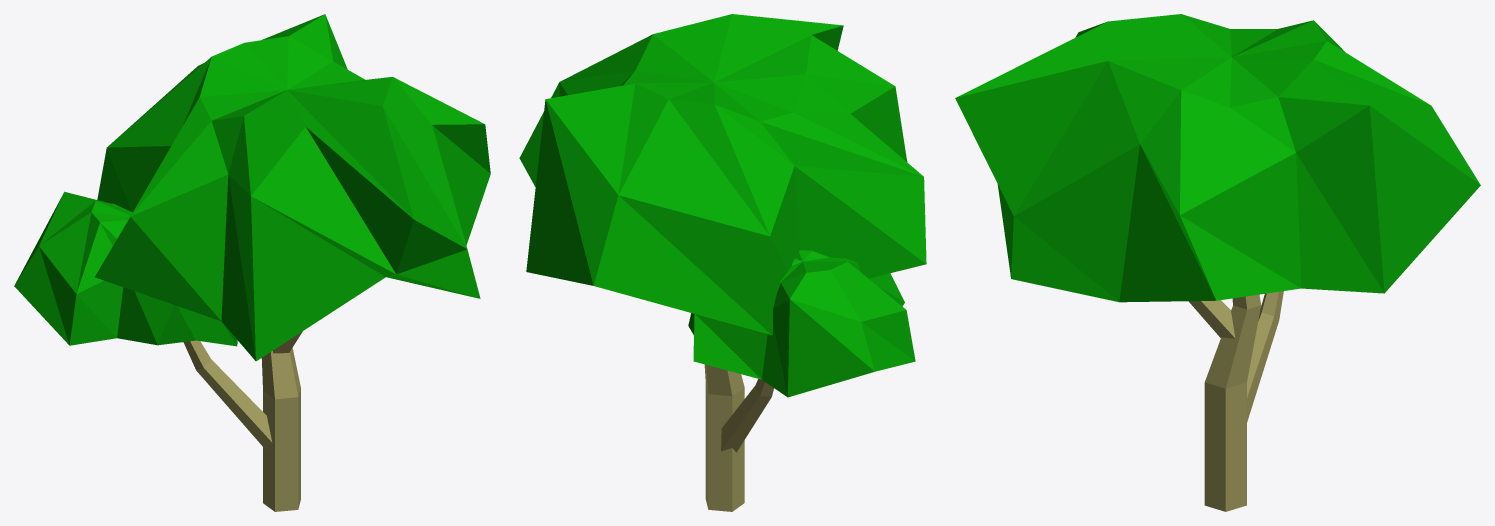
Rendered from tree.fbx.
3 views of the same model, side by side, from view 1: azimuth 30°, elevation 25°; view 2: azimuth 150°, elevation 25°; view 3: azimuth 270°, elevation 25° (orthographic). The views are drawn at different scales.
Parts seen in each view (by area): view 1: leaves, trunks; view 2: leaves, trunks; view 3: leaves, trunks.
Part boxes in pixels (x1=…): leaves: x1=14, y1=14, x2=490, y2=361; trunks: x1=183, y1=331, x2=302, y2=511; leaves: x1=519, y1=14, x2=926, y2=397; trunks: x1=704, y1=364, x2=773, y2=511; leaves: x1=955, y1=14, x2=1480, y2=302; trunks: x1=1189, y1=291, x2=1283, y2=511.
Size of the model in its own units: 20637 by 20493 by 20894.
